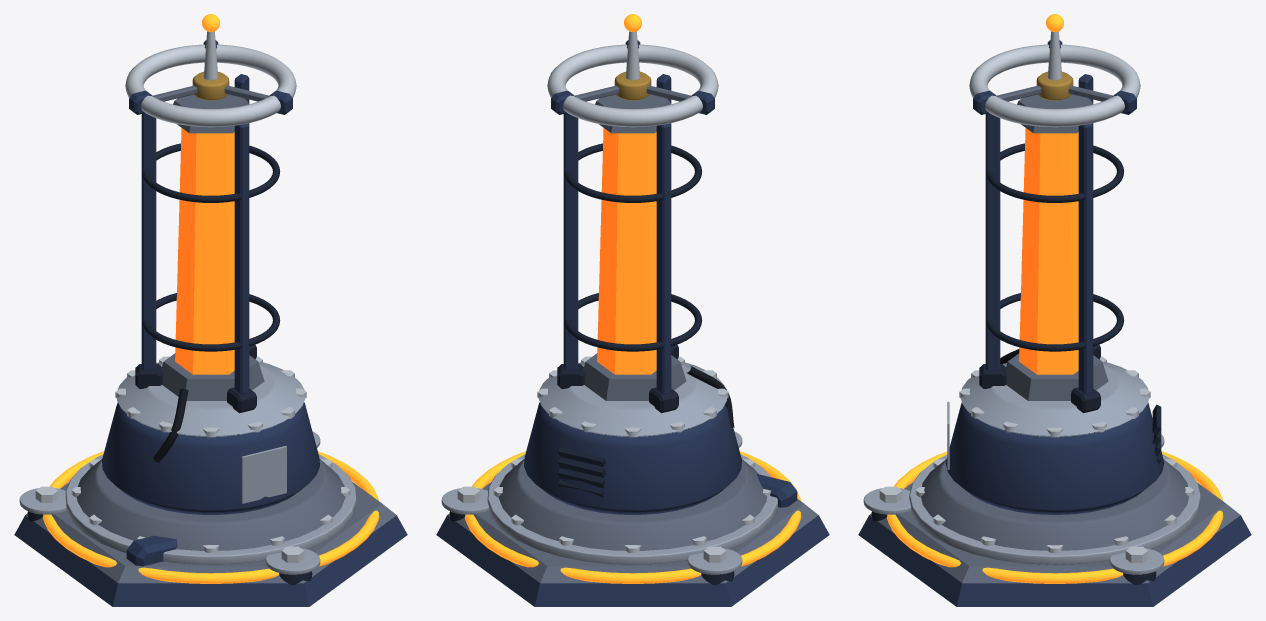
Rendered from tower_overclock_chassis.glb.
The picture shows the model from 3 angles, left to right: view 1: azimuth 30°, elevation 25°; view 2: azimuth 150°, elevation 25°; view 3: azimuth 270°, elevation 25°; orthographic projection.
Visible parts, largest first — view 1: overclock_base_drum, overclock_core, overclock_collar, overclock_baseplate, overclock_base_cap, overclock_ring, overclock_baseplate_bevel, overclock_flange, overclock_seam, overclock_cage_post2, overclock_cage_post0, overclock_core_base (+14 smaller); view 2: overclock_base_drum, overclock_core, overclock_collar, overclock_baseplate, overclock_base_cap, overclock_ring, overclock_baseplate_bevel, overclock_flange, overclock_seam, overclock_cage_post0, overclock_cage_post1, overclock_core_base (+13 smaller); view 3: overclock_base_drum, overclock_core, overclock_collar, overclock_baseplate, overclock_base_cap, overclock_ring, overclock_baseplate_bevel, overclock_flange, overclock_seam, overclock_cage_post1, overclock_cage_post2, overclock_core_base (+11 smaller).
Part boxes in pixels (x1,y1,x2,y2): overclock_base_drum: (102, 402, 319, 514); overclock_core: (175, 128, 234, 374); overclock_collar: (77, 459, 345, 550); overclock_baseplate: (14, 515, 407, 606); overclock_base_cap: (116, 362, 305, 436); overclock_ring: (125, 44, 296, 127); overclock_baseplate_bevel: (25, 482, 396, 583); overclock_flange: (65, 454, 356, 564); overclock_seam: (42, 451, 379, 583); overclock_cage_post2: (234, 123, 249, 393); overclock_cage_post0: (141, 113, 156, 369); overclock_core_base: (161, 353, 264, 400); overclock_base_drum: (524, 402, 741, 514); overclock_core: (597, 128, 656, 374); overclock_collar: (498, 459, 766, 550); overclock_baseplate: (436, 515, 829, 606); overclock_base_cap: (538, 362, 727, 436); overclock_ring: (547, 44, 718, 127); overclock_baseplate_bevel: (447, 482, 818, 583); overclock_flange: (487, 454, 777, 564); overclock_seam: (464, 451, 801, 583); overclock_cage_post0: (656, 123, 671, 393); overclock_cage_post1: (563, 113, 578, 369); overclock_core_base: (583, 353, 686, 400); overclock_base_drum: (945, 402, 1164, 514); overclock_core: (1019, 128, 1078, 374); overclock_collar: (921, 459, 1188, 550); overclock_baseplate: (858, 515, 1251, 606); overclock_base_cap: (960, 362, 1149, 436); overclock_ring: (969, 44, 1140, 127); overclock_baseplate_bevel: (869, 482, 1240, 583); overclock_flange: (909, 454, 1200, 564); overclock_seam: (886, 451, 1223, 583); overclock_cage_post1: (1078, 123, 1093, 393); overclock_cage_post2: (985, 113, 1000, 369); overclock_core_base: (1005, 353, 1108, 400).
Bounding box in the file's own units: 1.87 × 3.15 × 2.16.
